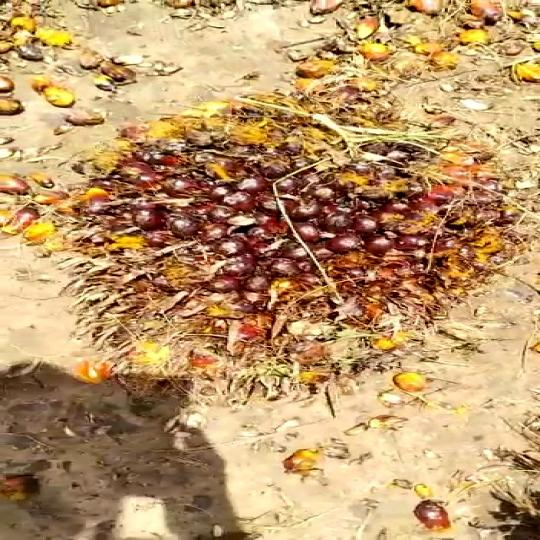masak: (10, 74, 540, 380)
